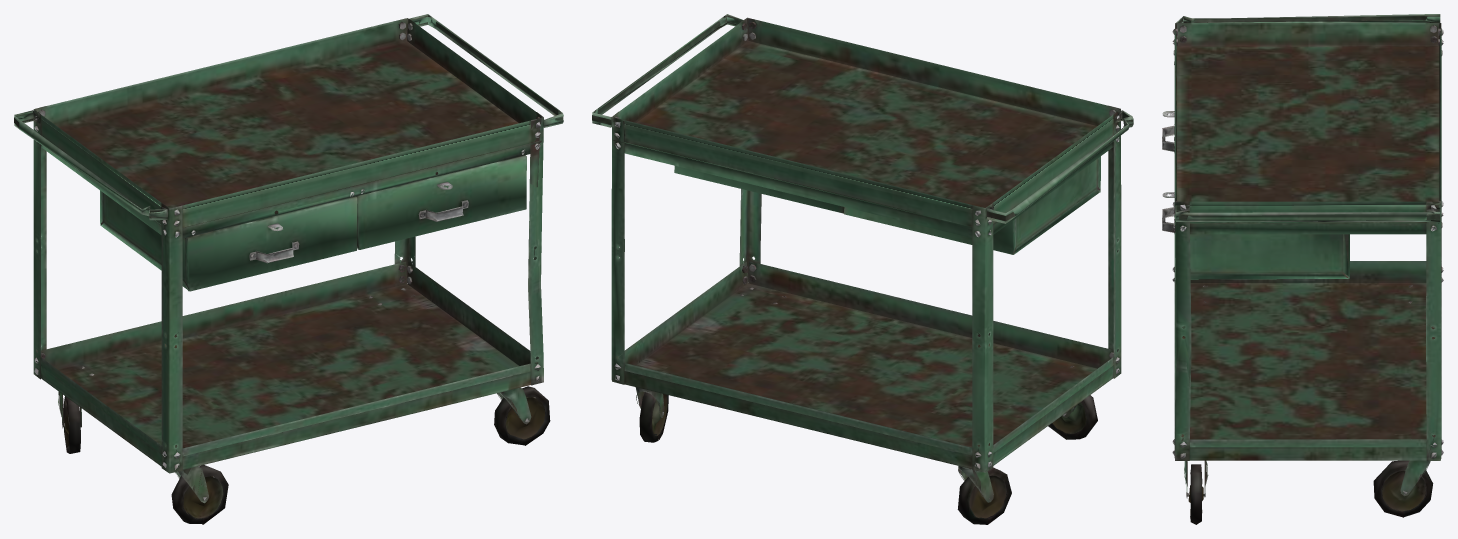
File: ph_tool_cart.glb
The picture shows the model from 3 angles, left to right: view 1: azimuth 30°, elevation 25°; view 2: azimuth 150°, elevation 25°; view 3: azimuth 270°, elevation 25°; orthographic projection. The views are drawn at different scales.
Visible parts, largest first — view 1: tool_cart; view 2: tool_cart; view 3: tool_cart.
Part boxes in pixels (x1,y1,x2,y2): tool_cart: (14,14,563,524); tool_cart: (592,14,1133,524); tool_cart: (1162,14,1443,524).
Bounding box in the file's own units: 1.28 × 0.9659 × 0.7548.
1 material, 1 textured.
